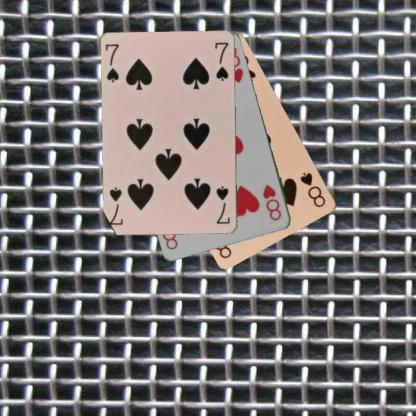7s: (103, 42, 121, 84), (214, 183, 231, 225)
8h: (261, 182, 283, 222)
8s: (297, 169, 328, 209)
